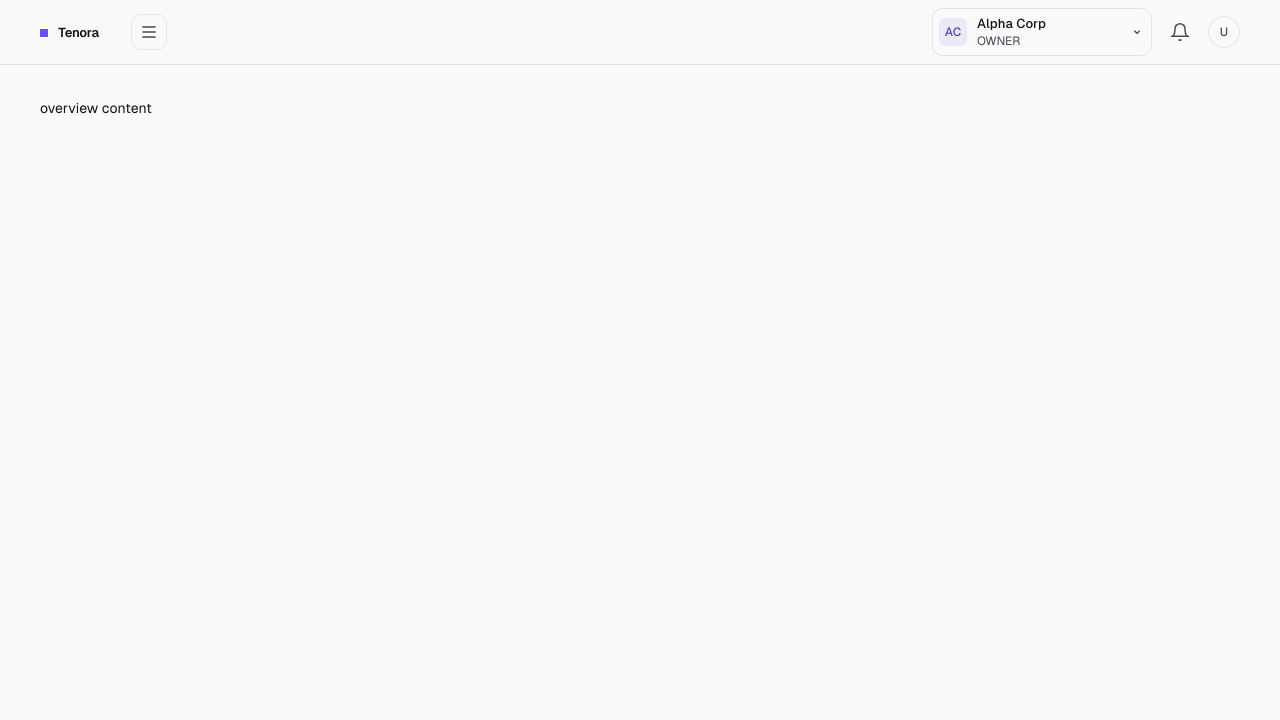
Test: AppShell — narrow (<1024px) › closes the nav panel on Escape
Click the button named "Open navigation" at (149, 32), box left=131, top=14, right=167, bottom=50
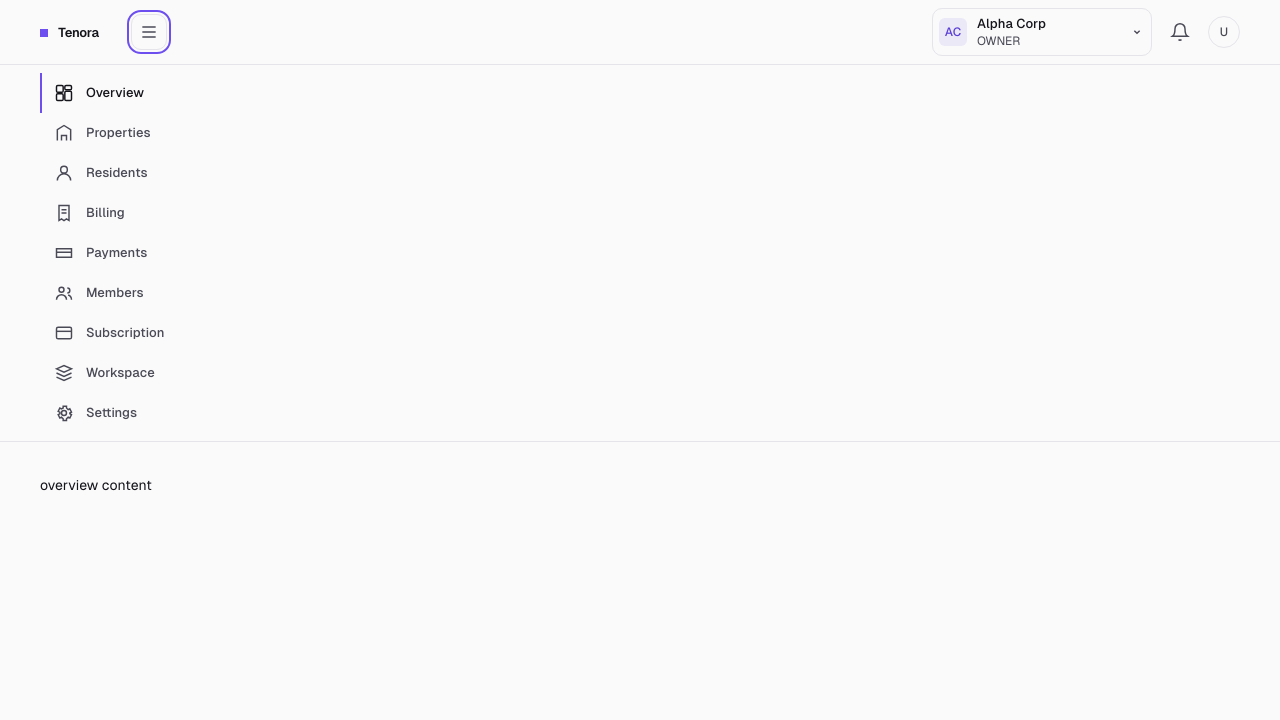
Result: the navigation bar named "Primary" is shown at left=0, top=65, right=1279, bottom=441
Press Escape
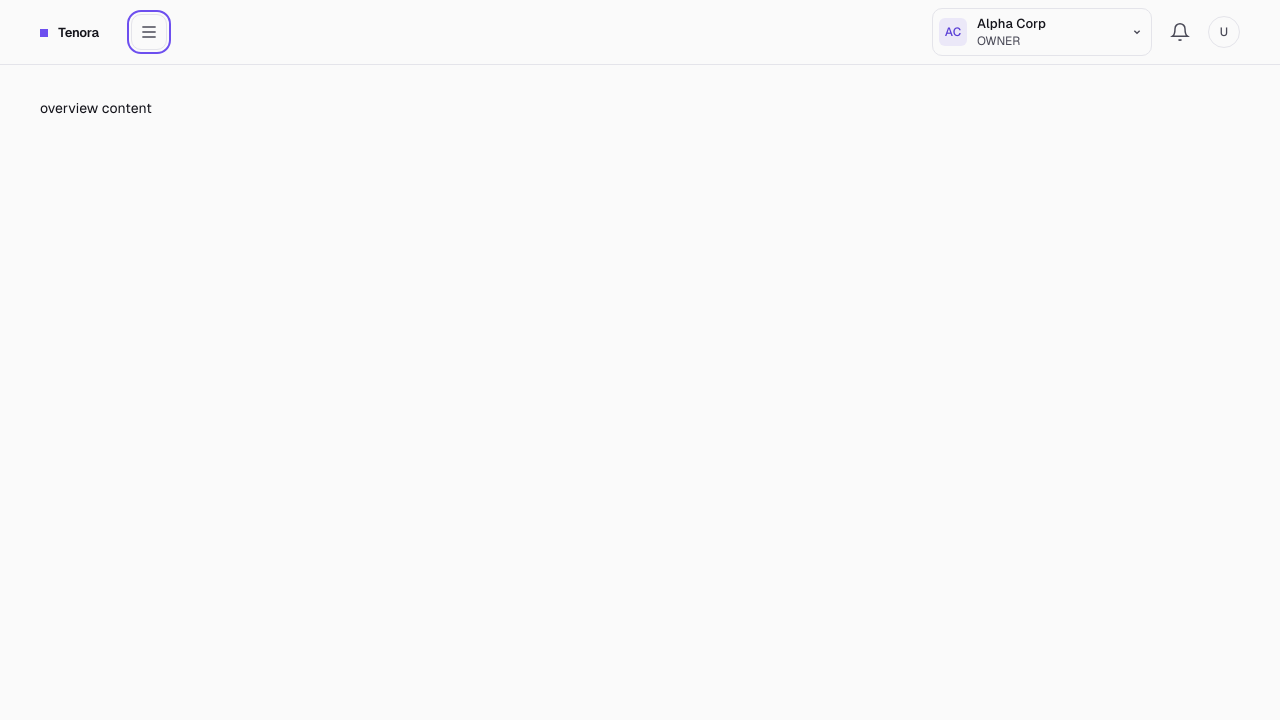
Result: the navigation bar "Primary" is gone
